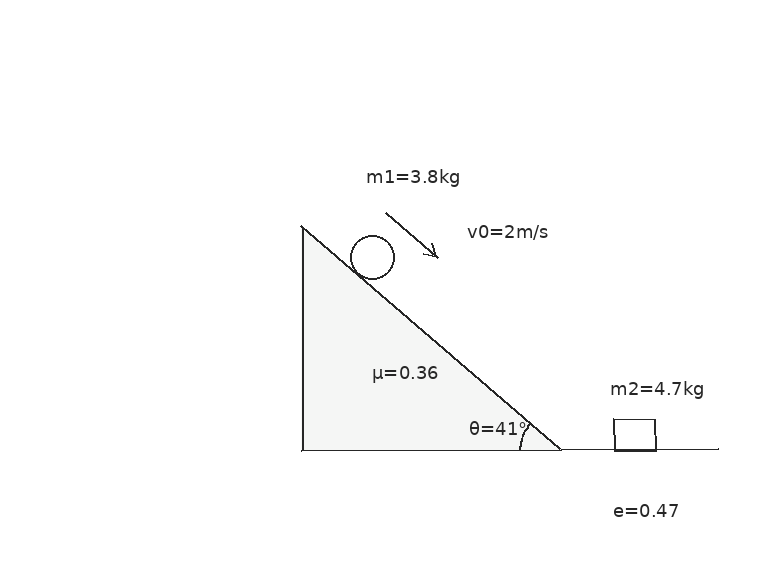ball: (348, 233, 396, 281)
block: (612, 417, 658, 452)
ramp: (300, 224, 562, 452)
